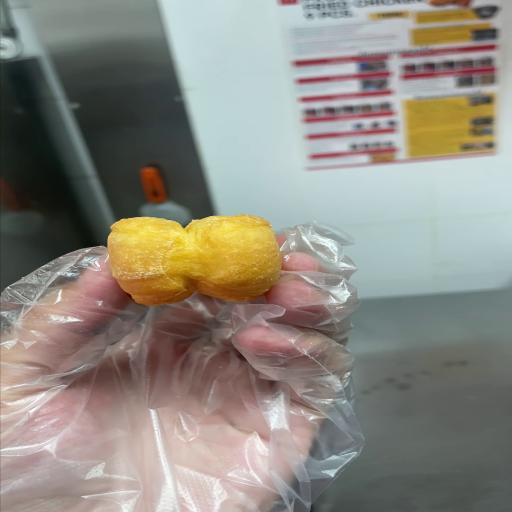brand_golden_good: (108, 215, 281, 306)
